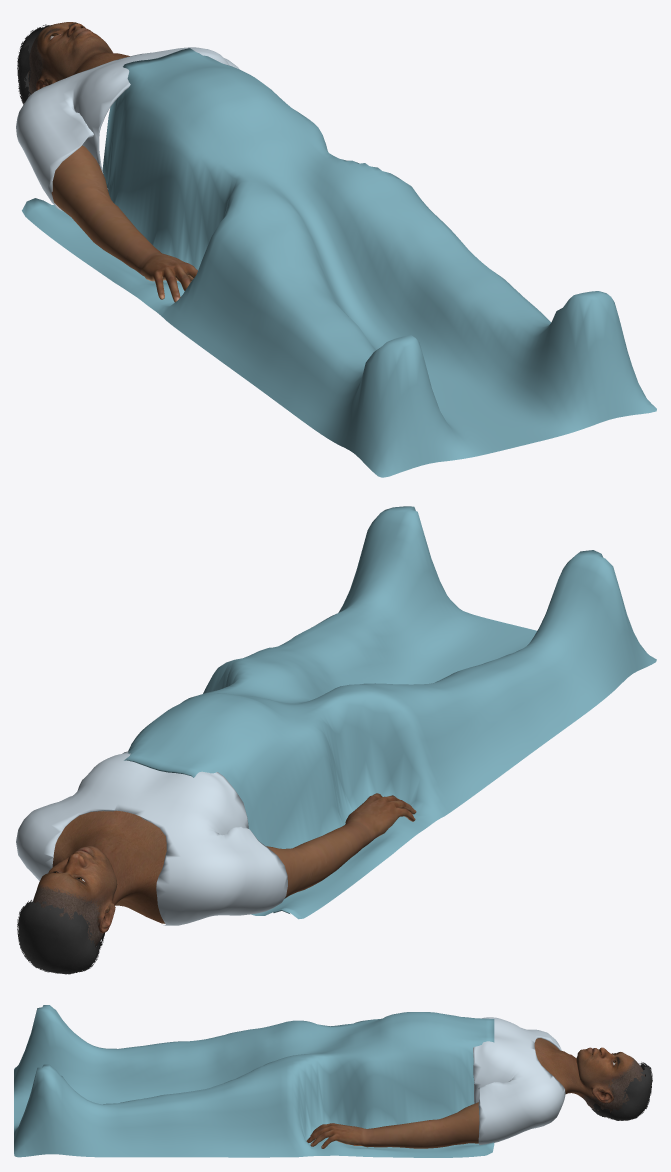
3 renders of one model, top to bottom at view 1: azimuth 30°, elevation 25°; view 2: azimuth 150°, elevation 25°; view 3: azimuth 270°, elevation 25°, orthographic. The views are drawn at different scales.
Visible parts, largest first — view 1: sheet, gown, arms, body, hair; view 2: sheet, gown, body, arms, hair; view 3: sheet, gown, body, arms, hair.
Part boxes in pixels (x1=…): sheet: x1=22, y1=48, x2=656, y2=477; gown: x1=16, y1=47, x2=239, y2=211; arms: x1=51, y1=145, x2=197, y2=302; body: x1=28, y1=22, x2=129, y2=94; hair: x1=17, y1=24, x2=51, y2=104; sheet: x1=124, y1=506, x2=656, y2=919; gown: x1=16, y1=751, x2=287, y2=925; body: x1=33, y1=810, x2=166, y2=946; arms: x1=266, y1=793, x2=416, y2=898; hair: x1=17, y1=900, x2=105, y2=974; sheet: x1=14, y1=1005, x2=494, y2=1157; gown: x1=473, y1=1017, x2=565, y2=1144; body: x1=534, y1=1038, x2=645, y2=1112; arms: x1=306, y1=1102, x2=479, y2=1148; hair: x1=591, y1=1062, x2=652, y2=1120.
Size of the model in its own units: 0.6454 by 0.3168 by 1.94.
Materials: 8 (6 with a texture image).
